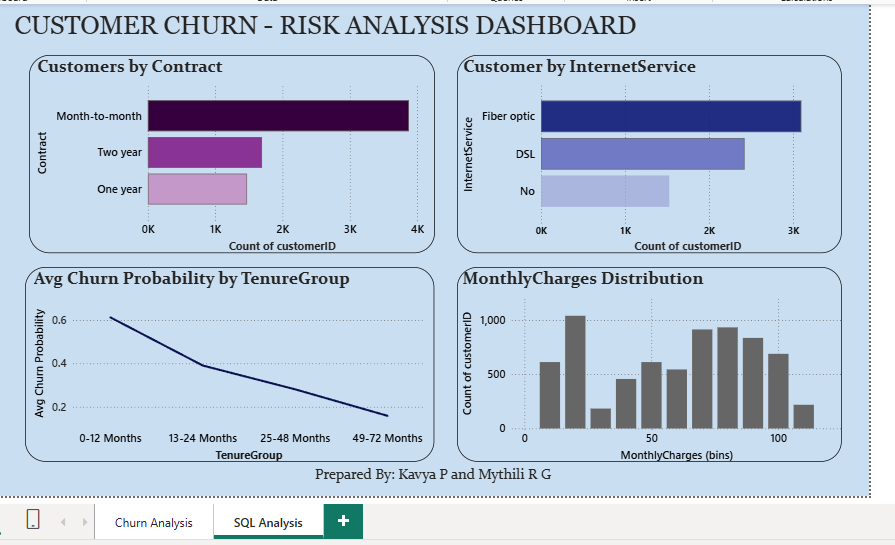

Layout of this report page (visuals, bound fields, positions):
{"tool":"powerbi","page":{"name":"SQL Analysis","canvas":[1280,720],"ordinal":1},"visuals":[{"type":"textbox","box":[23.4,5,930.7,70.2],"z":0},{"type":"clusteredBarChart","title":"Customers by Contract","fields":{"Category":["CustomerChurn.Contract"],"Y":["CountNonNull(CustomerChurn.customerID)"]},"box":[49.8,74.6,594.1,289.8],"z":1000},{"type":"lineChart","fields":{"Category":["CustomerChurn.TenureGroup"],"Y":["predictions_output.Avg Churn Probability"]},"box":[43.9,384.9,598.5,285.4],"z":2000},{"type":"clusteredColumnChart","title":"MonthlyCharges Distribution","fields":{"Category":["CustomerChurn.MonthlyCharges (bins)"],"Y":["CountNonNull(CustomerChurn.customerID)"]},"box":[676.1,384.9,563.4,285.4],"z":3000},{"type":"barChart","title":"Customer by InternetService","fields":{"Y":["CountNonNull(CustomerChurn.customerID)"],"Category":["CustomerChurn.InternetService"]},"box":[676.1,74.6,563.4,289.8],"z":4000},{"type":"textbox","box":[99.5,670.2,1082.9,49.8],"z":5000}]}

Visuals, with their boxes in screenshot pixels (x1, y1, x2, y2):
textbox: select_region(7, 3, 649, 52)
"Customers by Contract" clusteredBarChart: select_region(25, 51, 435, 251)
lineChart - CustomerChurn.TenureGroup x predictions_output.Avg Churn Probability: select_region(21, 265, 434, 462)
"MonthlyCharges Distribution" clusteredColumnChart: select_region(457, 265, 845, 462)
"Customer by InternetService" barChart: select_region(457, 51, 845, 251)
textbox: select_region(59, 462, 806, 496)
